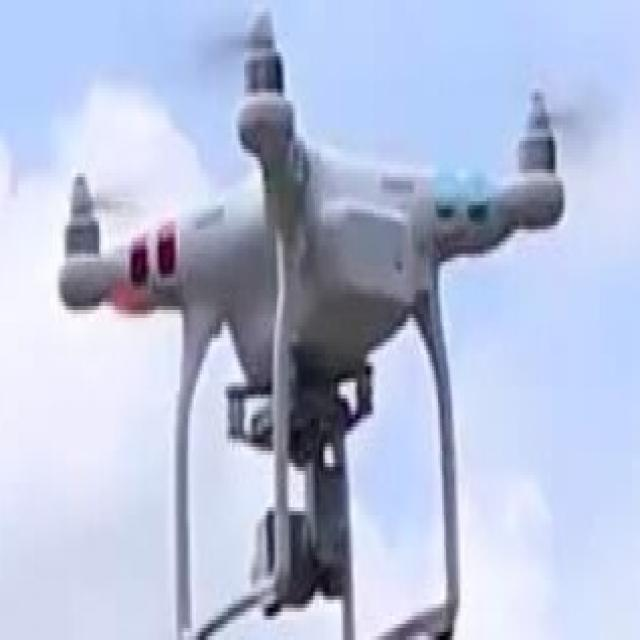drone: (27, 0, 627, 640)
